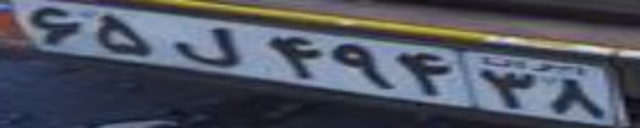3: (480, 69, 535, 109)
4: (267, 35, 325, 78), (395, 51, 450, 95)
5: (93, 13, 153, 54)
6: (30, 6, 81, 45)
8: (543, 78, 605, 118)
9: (330, 42, 393, 88)
lam: (169, 26, 242, 66)
